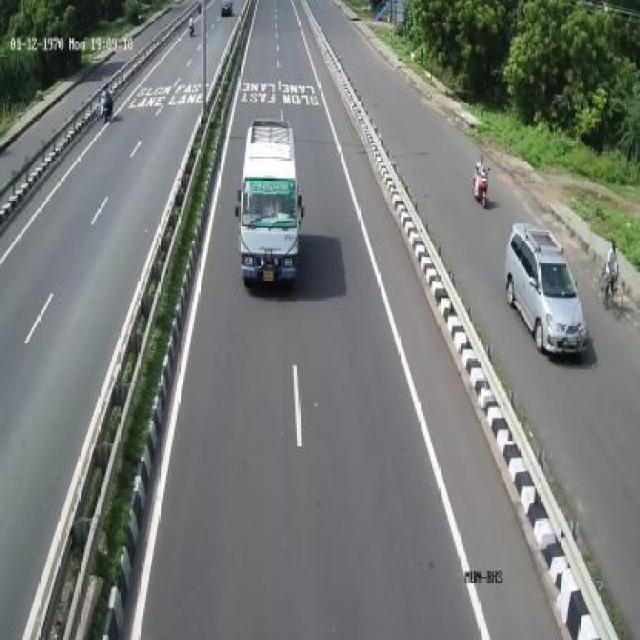car: (494, 214, 586, 358)
